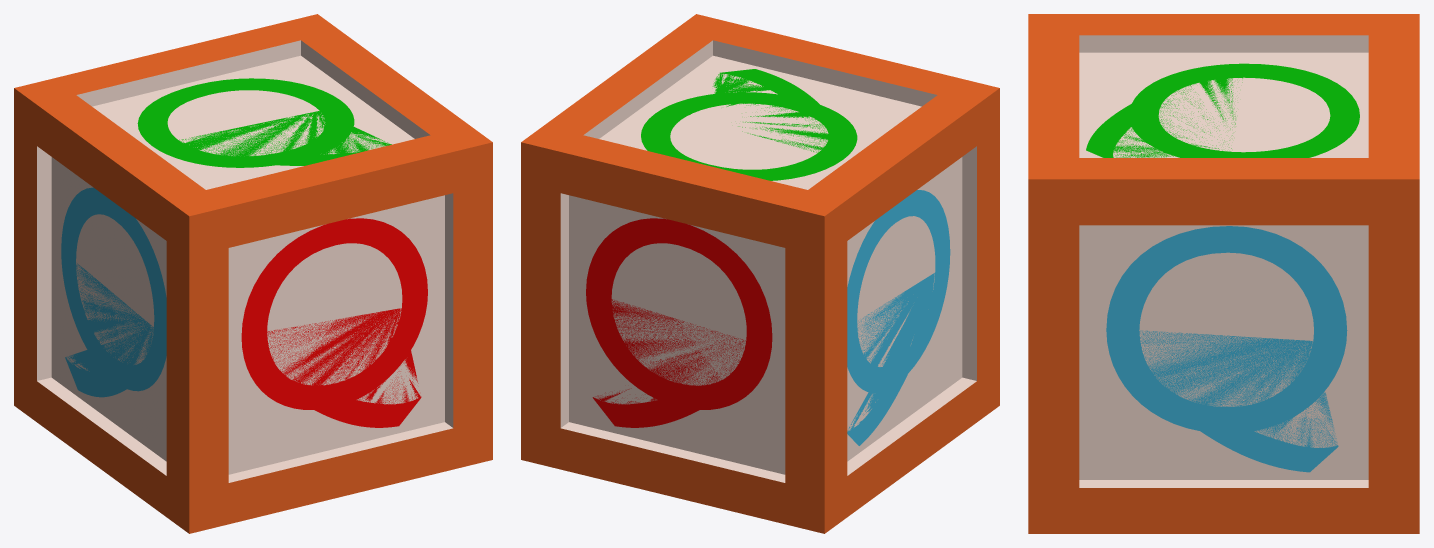
Rendered from Prop_KidsCube_Q.fbx.
3 renders of one model, left to right at view 1: azimuth 30°, elevation 25°; view 2: azimuth 150°, elevation 25°; view 3: azimuth 270°, elevation 25°, orthographic. The views are drawn at different scales.
Visible parts, largest first — view 1: Prop_KidsCube_Q; view 2: Prop_KidsCube_Q; view 3: Prop_KidsCube_Q.
Part boxes in pixels (x1,y1,x2,y2): Prop_KidsCube_Q: [14, 14, 492, 533]; Prop_KidsCube_Q: [521, 14, 999, 533]; Prop_KidsCube_Q: [1028, 14, 1419, 533].
Size of the model in its own units: 20.93 by 20.93 by 20.93.
